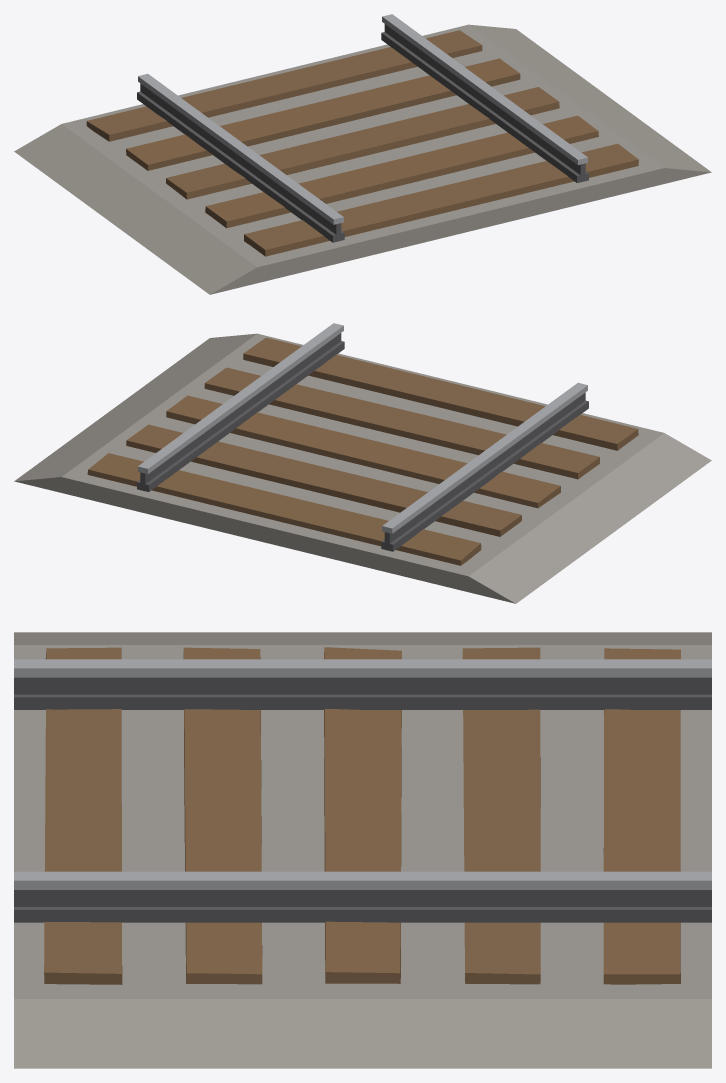
File: SM_Rail_Track.glb
The picture shows the model from 3 angles, top to bottom: view 1: azimuth 30°, elevation 25°; view 2: azimuth 150°, elevation 25°; view 3: azimuth 270°, elevation 25°; orthographic projection. The views are drawn at different scales.
Visible parts, largest first — view 1: SM_Rail_Track; view 2: SM_Rail_Track; view 3: SM_Rail_Track.
Boxes of the visible parts, x1,y1,x2,y2 form: SM_Rail_Track: (14, 14, 711, 294); SM_Rail_Track: (14, 323, 711, 603); SM_Rail_Track: (14, 632, 711, 1068).
Bounding box in the file's own units: 2.96 × 0.2543 × 2.
